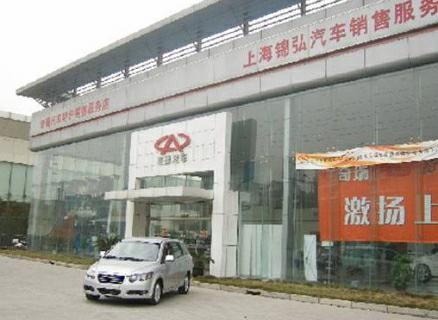奇瑞-东方之子Cross: (81, 232, 198, 306)
